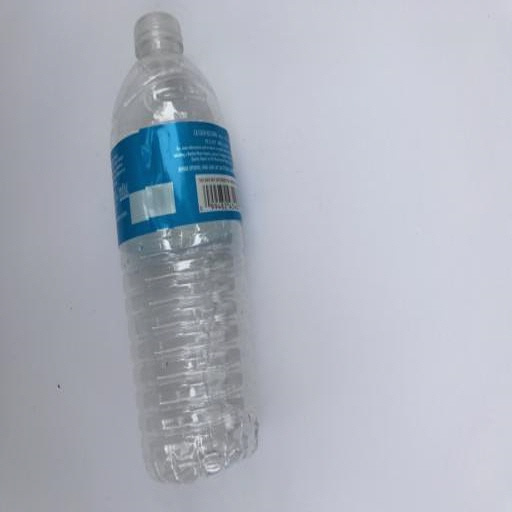Plastic_0: (111, 13, 259, 484)
